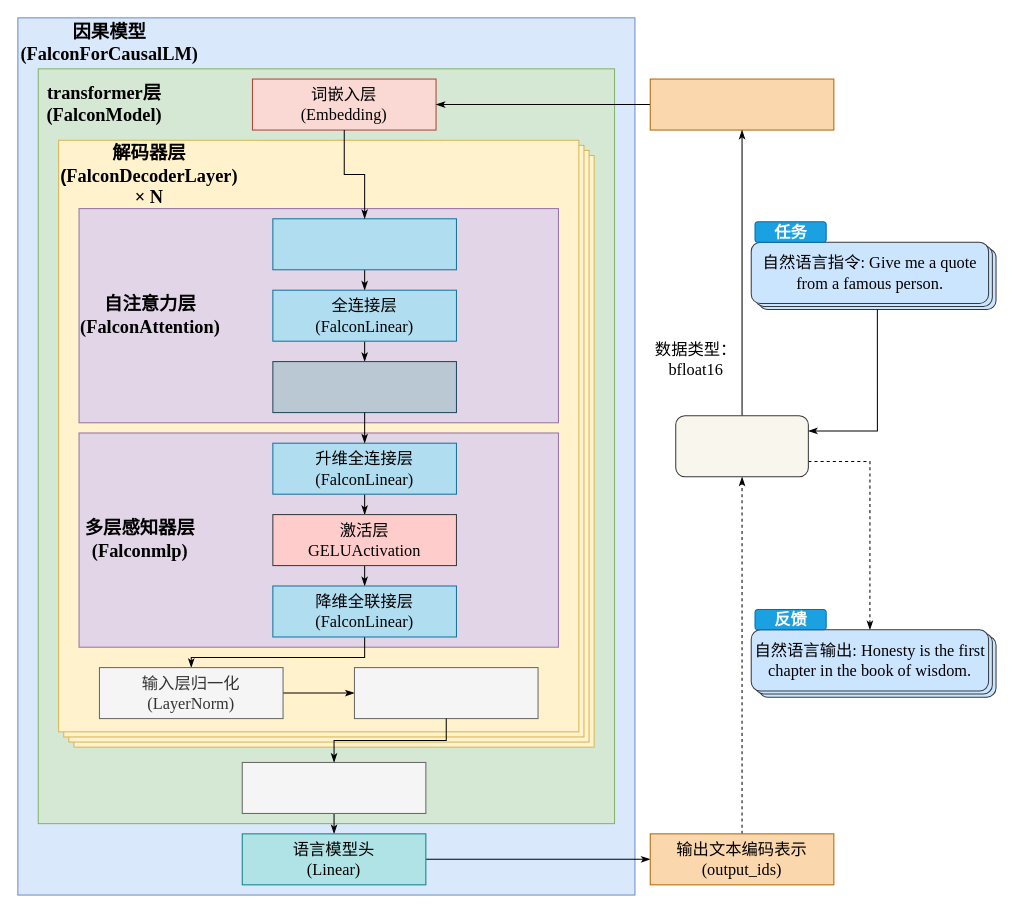
The diagram is 1014 pixels wide and 913 high, and some of its shapes have lost their labels. Each missing label, with the centre of its shape:
"层归一化 : LayerNorm" goes at pixel 333 787.
"查询键值层 (FalconLinear)" goes at pixel 364 244.
"标记器( falcon_tokenizer)" goes at pixel 741 446.
"注意力后层归一化 (LayerNorm)" goes at pixel 445 693.
"注意力随机失活 (Dropout)" goes at pixel 364 387.
"输入文本编码表示 (input_ids)" goes at pixel 741 104.
